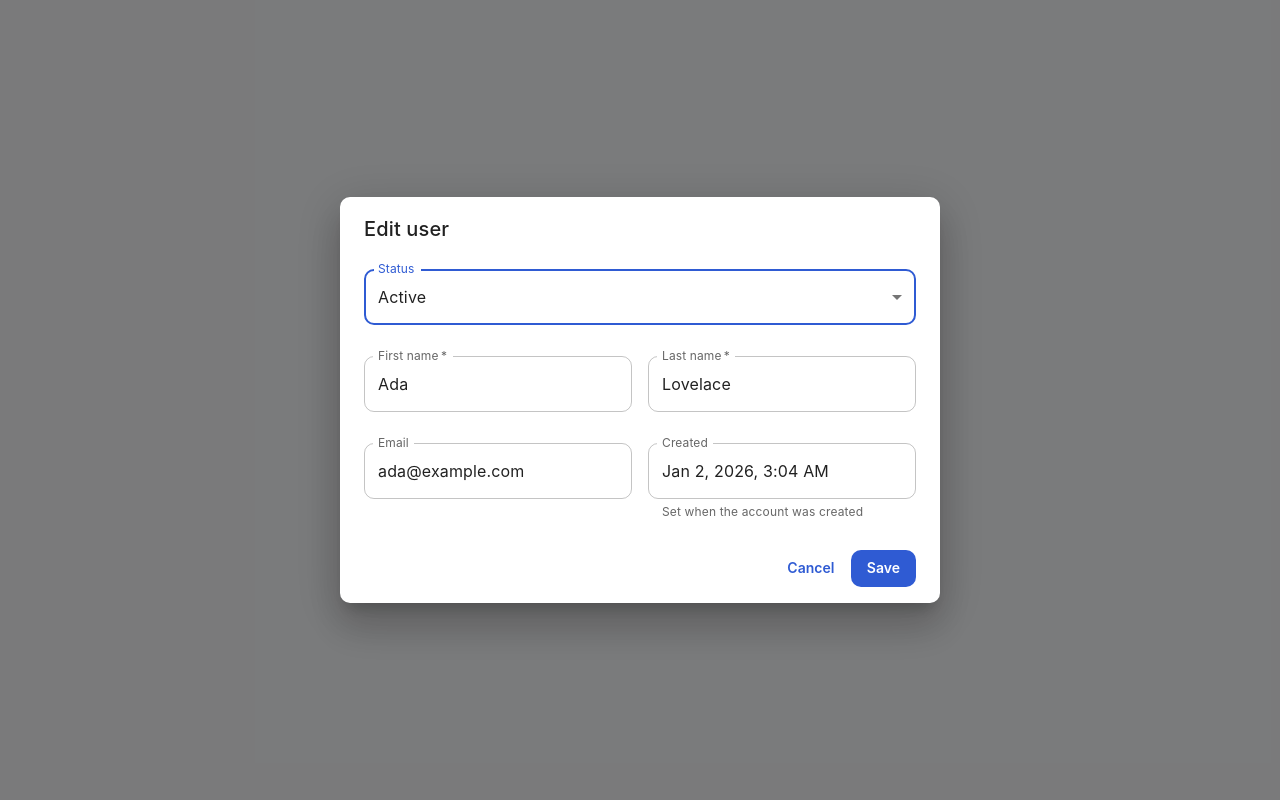
Test case: EditUserDialog (T7.5, C5) › warns before you deactivate yourself (T7.8)
Expected: the text "deactivating your own account" is not shown
Click the dropdown named "status".
click(402, 297)  # box [378,287,426,307]
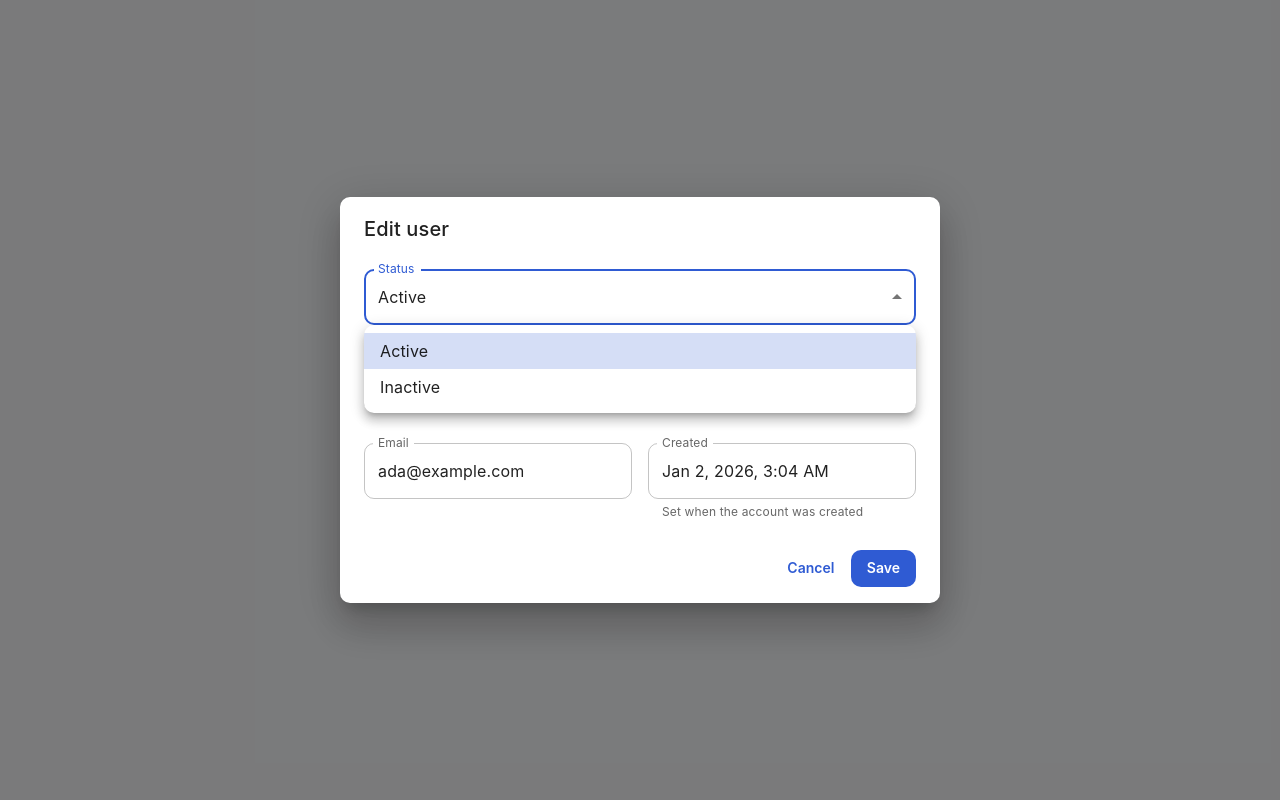
Click the option "Inactive".
click(410, 387)  # box [380,377,440,397]
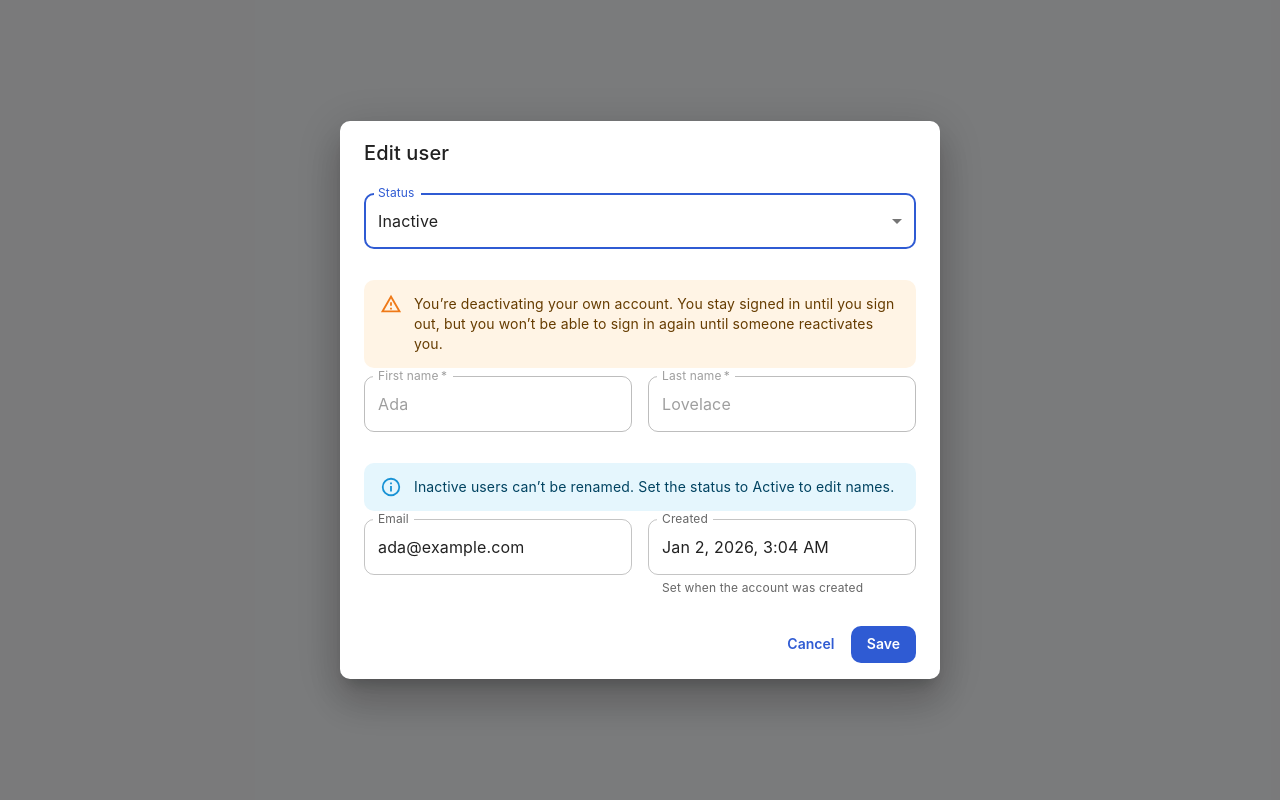
Result: the text "deactivating your own account" shows "You stay signed in until you sign out" at [414,295,894,352]
